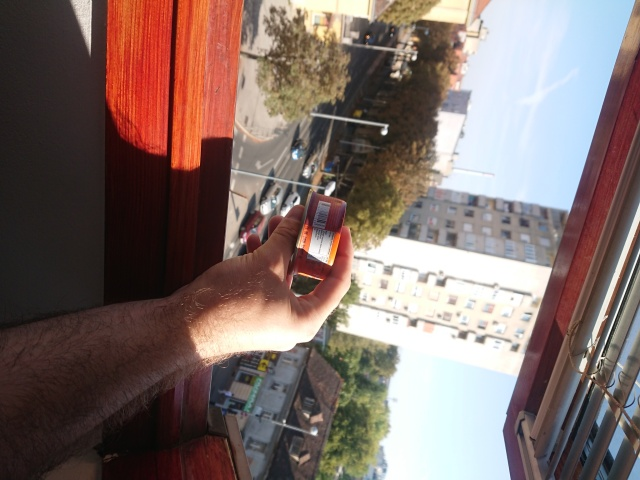Gavrilovic Pork Liver Pate 100g: (287, 185, 348, 283)
